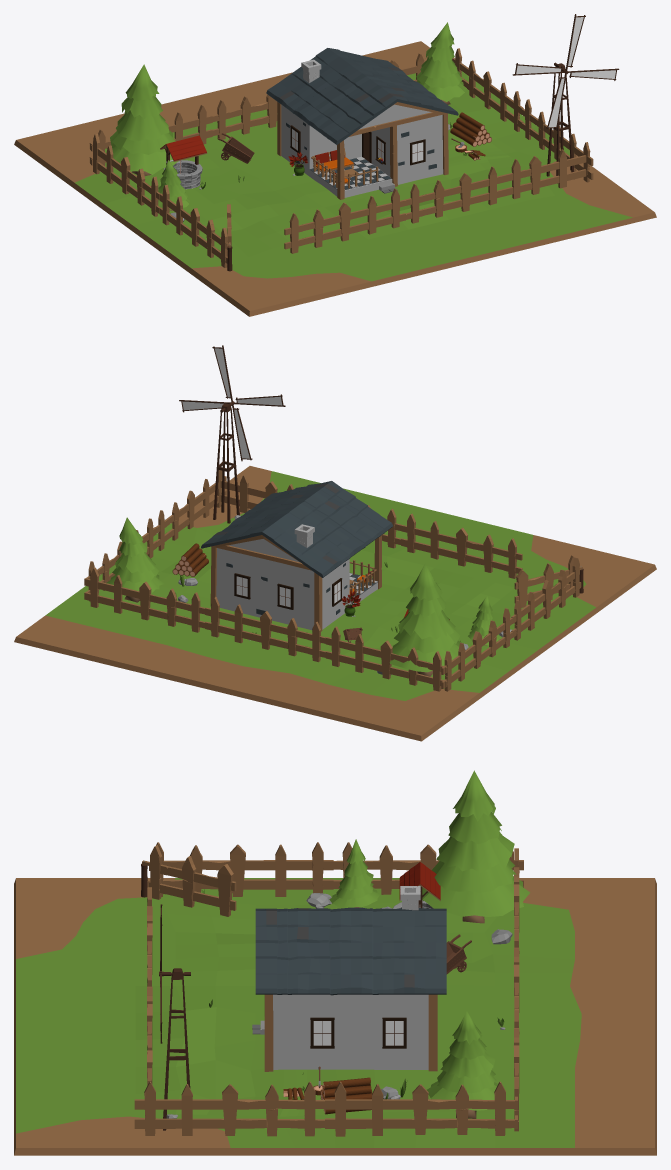
File: farm-pack.glb
3 views of the same model, one above another, from view 1: azimuth 30°, elevation 25°; view 2: azimuth 150°, elevation 25°; view 3: azimuth 270°, elevation 25° (orthographic). The views are drawn at different scales.
Parts seen in each view (by area): view 1: Terrain, wood fence front, roof.001, wood fence back, house body, Pine Tree 2, wooden eges, Pine Tree 1, prop, Logs, mill foot, floor.003 (+5 smaller); view 2: Terrain, wood fence back, roof.001, house body, wood fence front, Pine Tree 2, Pine Tree 1, wooden eges, prop, mill foot, gate, Logs (+1 smaller); view 3: Terrain, roof.001, wood fence front, house body, Pine Tree 2, wood fence back, Pine Tree 1, gate, Pine Tree 3, wooden eges, Logs, mill foot (+3 smaller).
Part boxes in pixels (<box>): Terrain: <box>14,41,656,316</box>; wood fence front: <box>284,48,593,253</box>; roof.001: <box>266,48,458,144</box>; wood fence back: <box>89,53,453,267</box>; house body: <box>281,104,443,197</box>; Pine Tree 2: <box>107,64,178,175</box>; wooden eges: <box>277,102,448,199</box>; Pine Tree 1: <box>416,22,466,104</box>; prop: <box>512,14,619,129</box>; Logs: <box>450,112,491,160</box>; mill foot: <box>546,63,574,183</box>; floor.003: <box>309,156,391,189</box>; Terrain: <box>14,466,656,741</box>; wood fence back: <box>84,557,581,691</box>; roof.001: <box>201,481,392,577</box>; house body: <box>216,539,377,630</box>; wood fence front: <box>86,470,522,601</box>; Pine Tree 2: <box>389,563,461,676</box>; Pine Tree 1: <box>106,517,163,602</box>; wooden eges: <box>210,535,381,631</box>; prop: <box>179,345,285,461</box>; mill foot: <box>213,403,239,523</box>; gate: <box>514,555,583,607</box>; Logs: <box>172,543,208,576</box>; Terrain: <box>14,878,656,1155</box>; roof.001: <box>255,907,446,995</box>; wood fence front: <box>134,887,514,1136</box>; house body: <box>273,994,428,1069</box>; Pine Tree 2: <box>422,770,530,923</box>; wood fence back: <box>147,842,523,1131</box>; Pine Tree 1: <box>427,1011,506,1118</box>; gate: <box>141,845,236,916</box>; Pine Tree 3: <box>329,839,380,907</box>; wooden eges: <box>264,994,437,1071</box>; Logs: <box>283,1077,372,1114</box>; mill foot: <box>163,968,190,1130</box>.
Bounding box in the file's own units: 28.12 × 11.27 × 27.06.
Materials: 10 (4 with a texture image).
